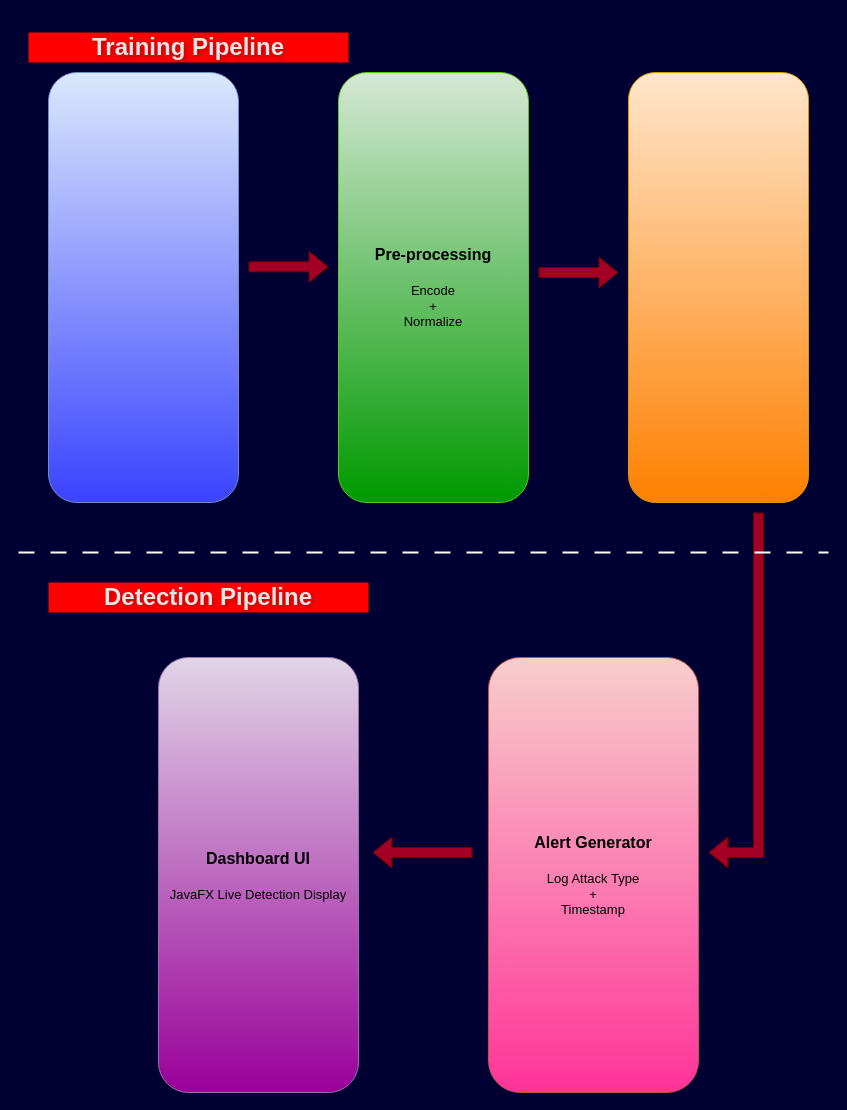
This 847x1110 diagram has some shape labels left out. The shapes that lost their labels are listed below. From the top down, each one's centre as x and y in pixels, then its label:
the point at 143,287: Traffic Input CSV File or Live Packet Capture (eg. pcap4j)
the point at 718,287: ML Classifier MODEL File (eg. random_forest.model)
